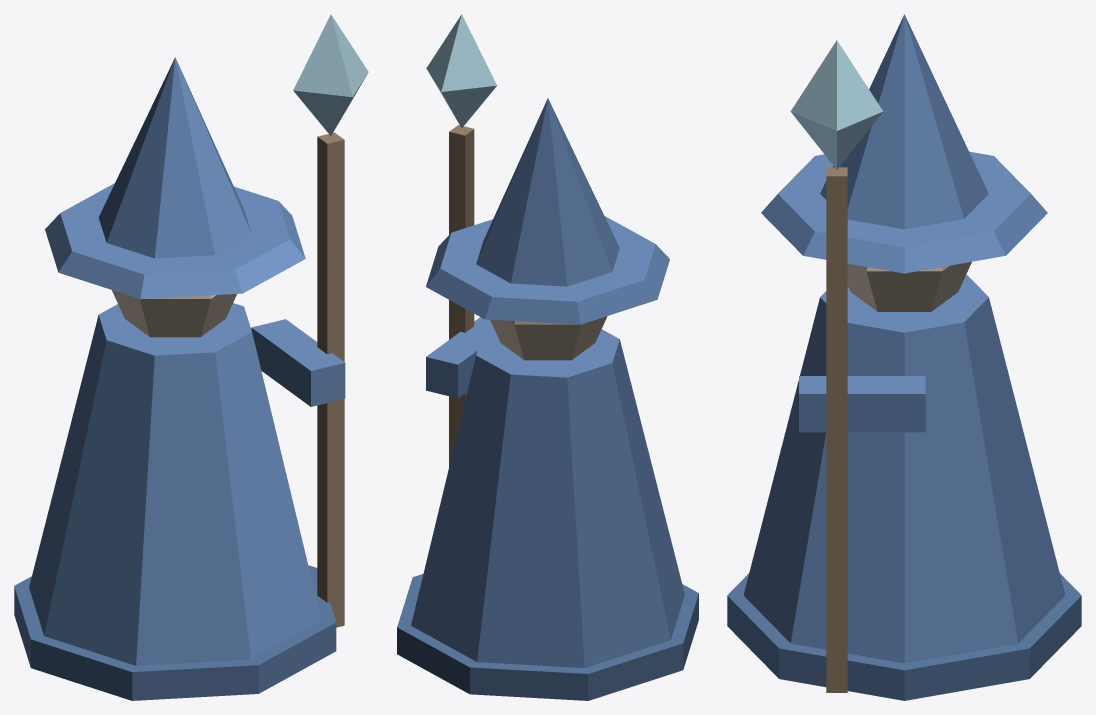
Rendered from minion_ranged_blue.glb.
3 renders of one model, left to right at view 1: azimuth 30°, elevation 25°; view 2: azimuth 150°, elevation 25°; view 3: azimuth 270°, elevation 25°, orthographic. The views are drawn at different scales.
Bounding box in the file's own units: 0.89 × 1.7 × 0.84.
